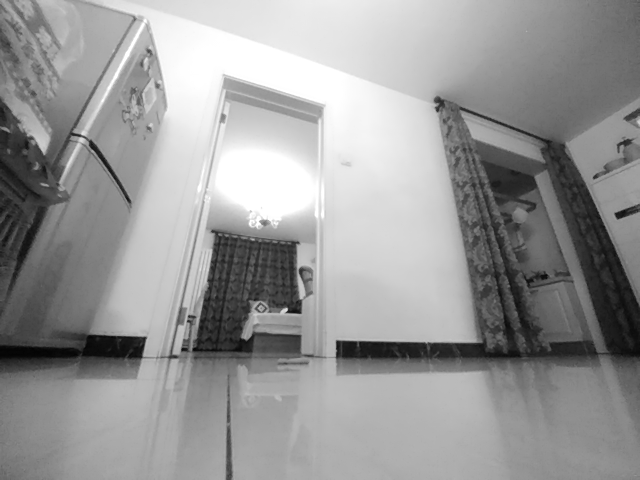curtain: (434, 97, 551, 359), (540, 141, 640, 357), (194, 232, 300, 360)
pet feces: (277, 357, 310, 366)
